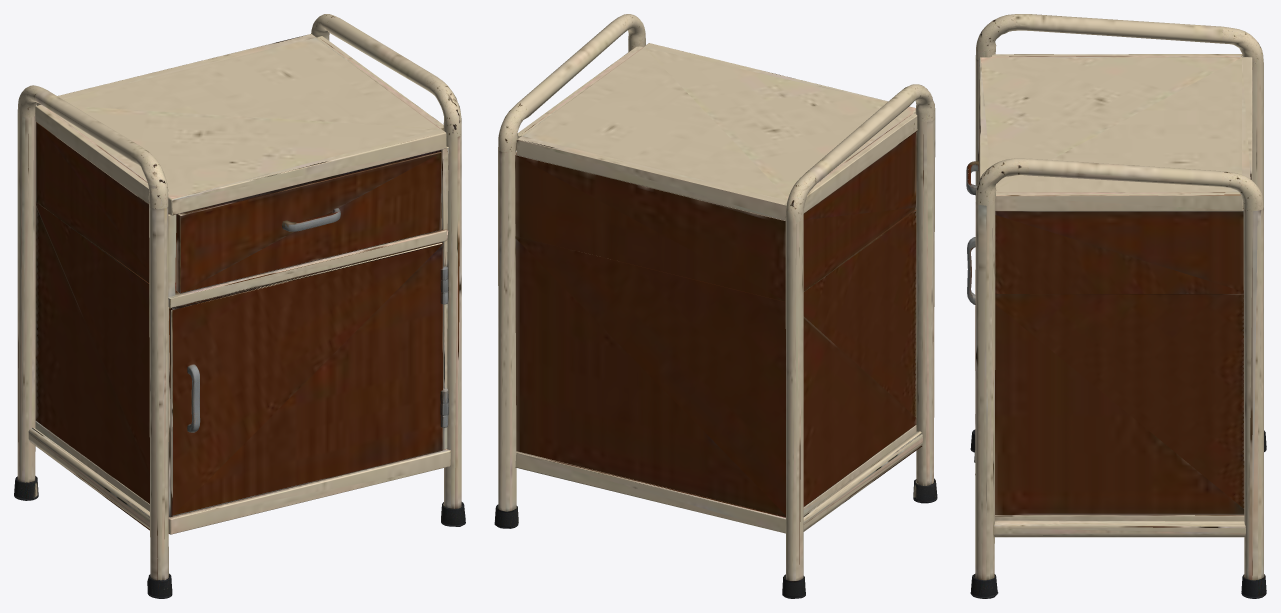
Rendered from epi_cabinet_2.glb.
The picture shows the model from 3 angles, left to right: view 1: azimuth 30°, elevation 25°; view 2: azimuth 150°, elevation 25°; view 3: azimuth 270°, elevation 25°; orthographic projection. The views are drawn at different scales.
Parts seen in each view (by area): view 1: Mesh_0; view 2: Mesh_0; view 3: Mesh_0.
Part boxes in pixels (x1,y1,x2,y2): Mesh_0: [14, 14, 465, 598]; Mesh_0: [494, 14, 937, 598]; Mesh_0: [966, 14, 1266, 598].
Size of the model in its own units: 0.6512 by 0.85 by 0.5323.
Materials: 1 (1 with a texture image).
